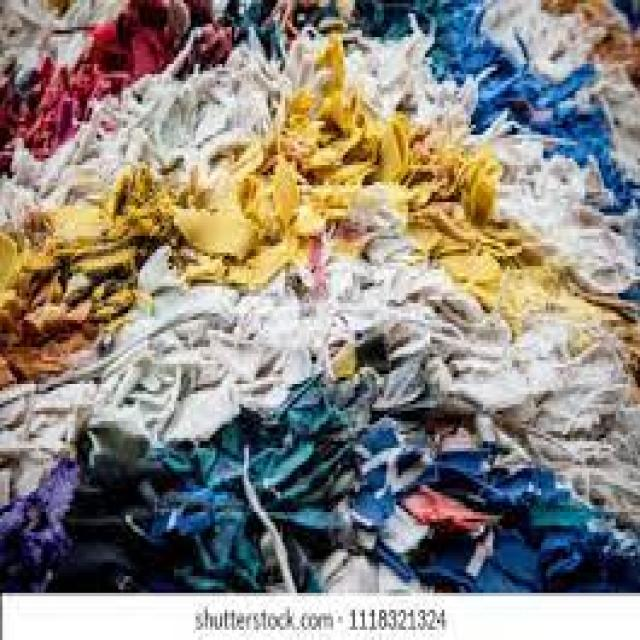Clothes -Biodegradable-: (0, 0, 640, 596)
